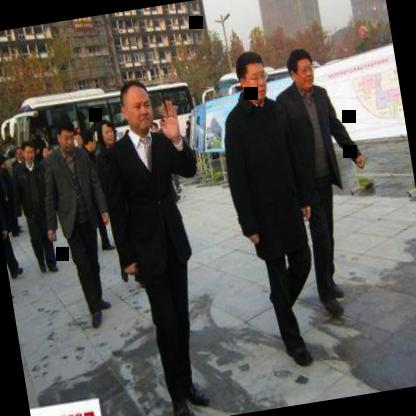head: (231, 44, 273, 107), (115, 74, 157, 136), (284, 44, 320, 94), (53, 109, 80, 153), (94, 112, 119, 154), (20, 134, 39, 166), (80, 127, 98, 154)
